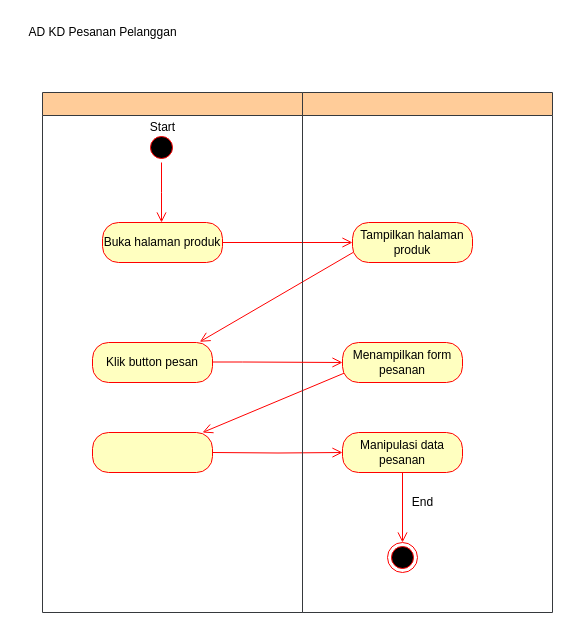
This 570x630 diagram has some shape labels left out. Each missing label, with the box of its shape:
Input detail pesanan: (92, 432, 212, 472)
Pelanggan: (42, 92, 302, 612)
Sistem: (302, 92, 552, 612)
